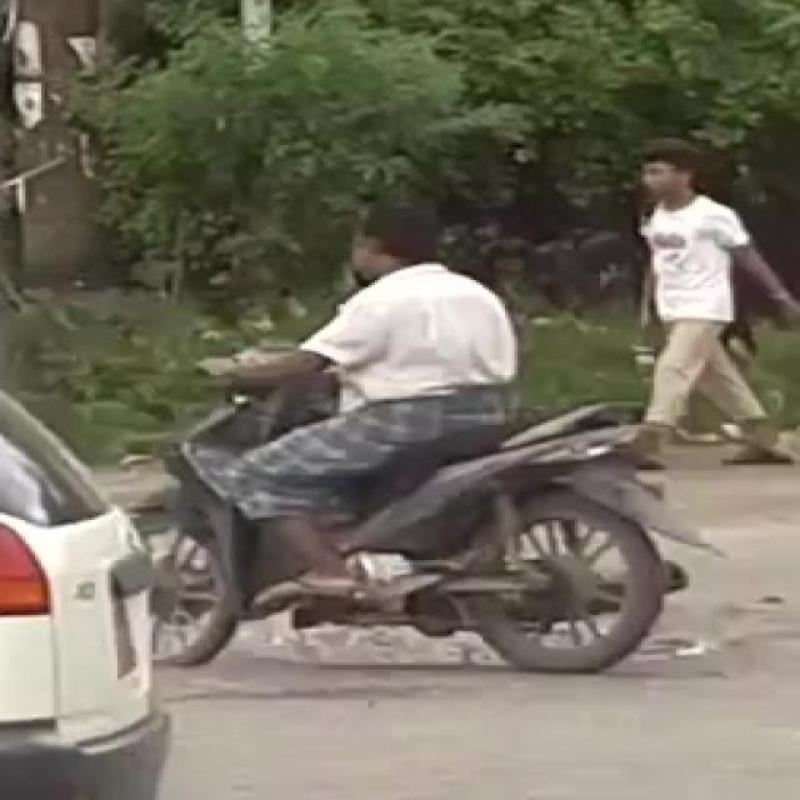nohelmet: (356, 181, 494, 285)
